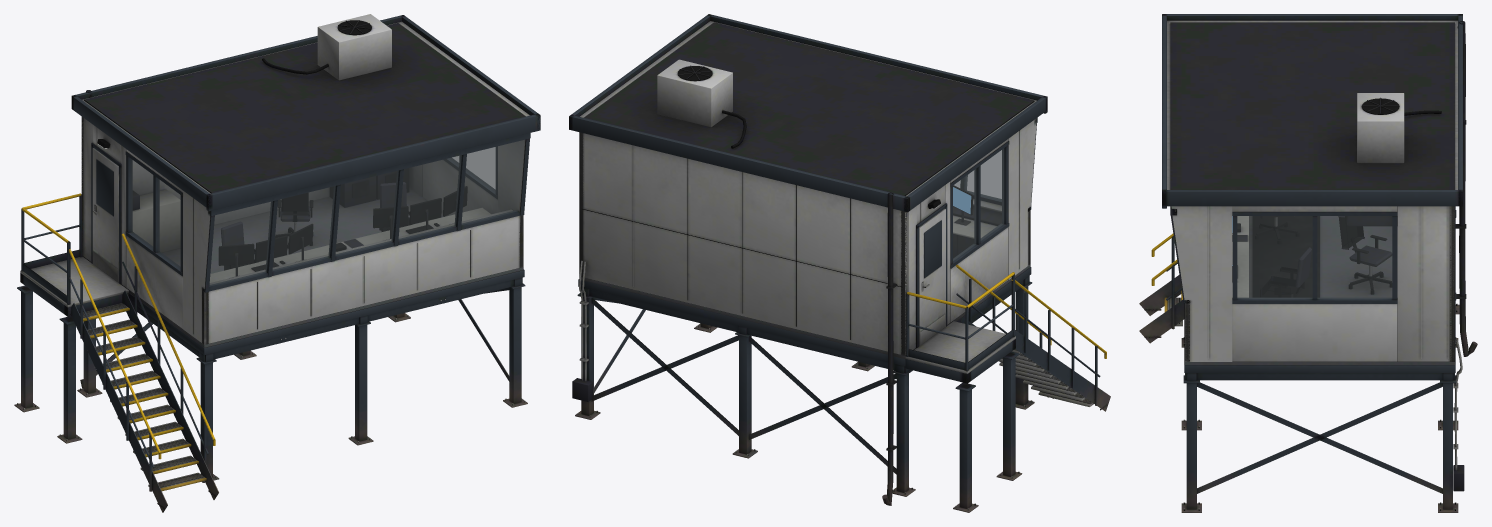
File: control-room-v1-lod0.glb
The picture shows the model from 3 angles, left to right: view 1: azimuth 30°, elevation 25°; view 2: azimuth 150°, elevation 25°; view 3: azimuth 270°, elevation 25°; orthographic projection. The views are drawn at different scales.
Parts seen in each view (by area): view 1: body, fittings, door_mesh, chair_3_mesh, chair_2_mesh, chair_1_mesh; view 2: body, fittings, door_mesh; view 3: body, fittings, chair_3_mesh, chair_2_mesh.
Boxes of the visible parts, x1=… form: body: x1=14, y1=14, x2=540, y2=512; fittings: x1=98, y1=140, x2=524, y2=286; door_mesh: x1=92, y1=148, x2=119, y2=282; chair_3_mesh: x1=277, y1=193, x2=313, y2=223; chair_2_mesh: x1=379, y1=182, x2=411, y2=231; chair_1_mesh: x1=221, y1=221, x2=258, y2=270; body: x1=569, y1=14, x2=1110, y2=512; fittings: x1=931, y1=149, x2=1003, y2=260; door_mesh: x1=919, y1=208, x2=945, y2=346; body: x1=1139, y1=14, x2=1477, y2=512; fittings: x1=1232, y1=216, x2=1391, y2=298; chair_3_mesh: x1=1338, y1=216, x2=1392, y2=267; chair_2_mesh: x1=1260, y1=247, x2=1311, y2=297.
Bounding box in the file's own units: 7.34 × 6.11 × 5.02.
Materials: 5 (1 with a texture image).
